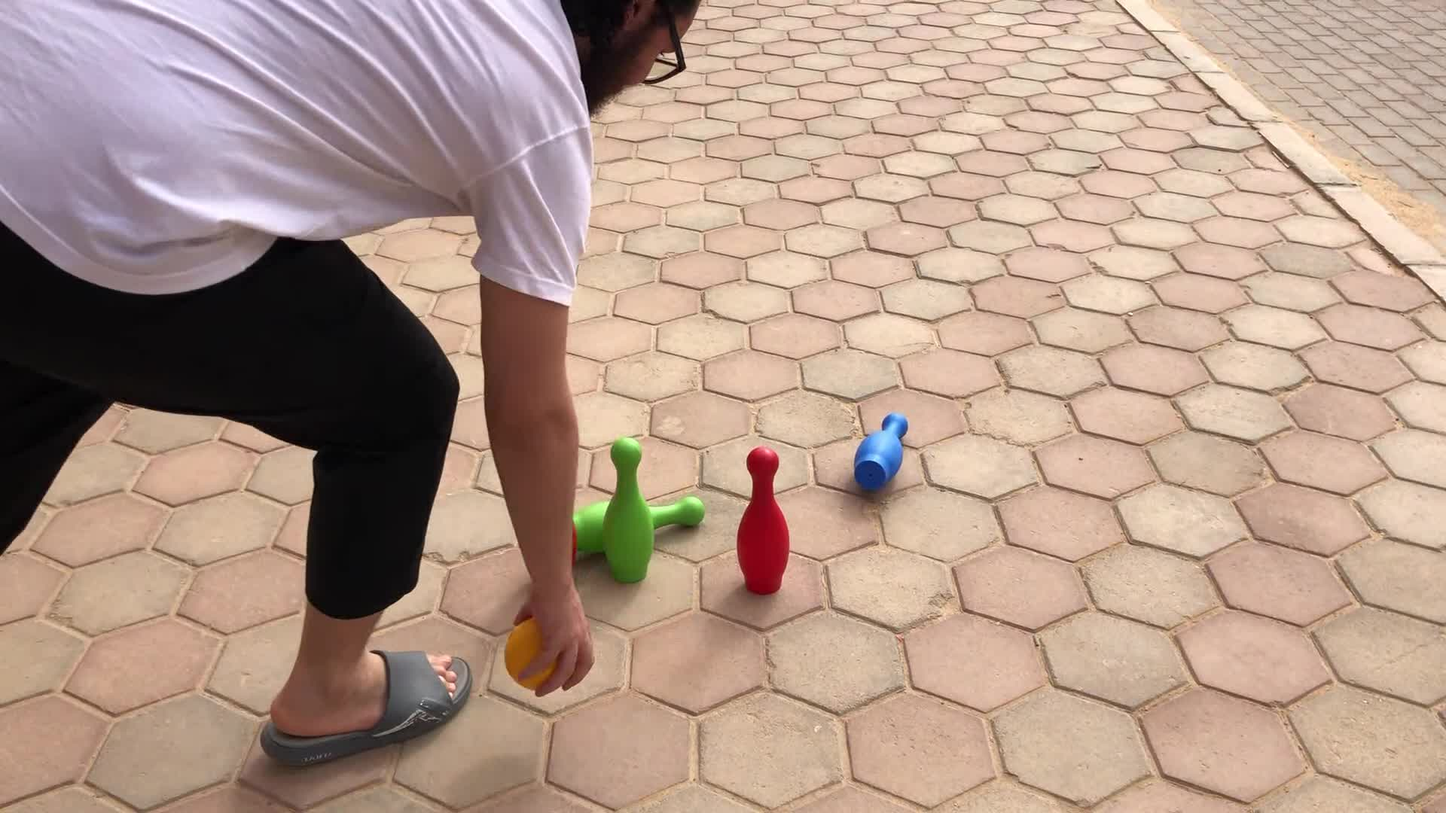bowling-pin: (738, 448, 789, 595), (604, 437, 654, 582), (854, 413, 909, 496), (648, 497, 706, 531)
